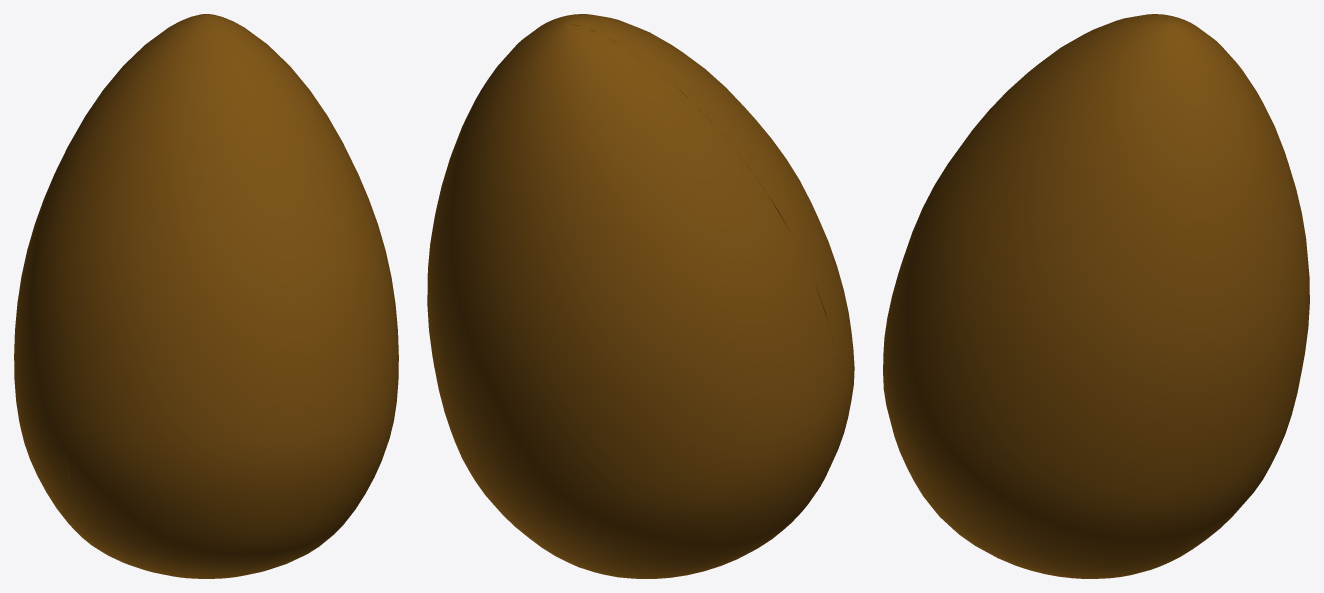
Rendered from oeuf.glb.
3 renders of one model, left to right at view 1: azimuth 30°, elevation 25°; view 2: azimuth 150°, elevation 25°; view 3: azimuth 270°, elevation 25°, orthographic. The views are drawn at different scales.
Parts seen in each view (by area): view 1: bonbon oeuf.001; view 2: bonbon oeuf.001; view 3: bonbon oeuf.001.
Part boxes in pixels (x1,y1,x2,y2): bonbon oeuf.001: (14,14,398,578); bonbon oeuf.001: (427,14,854,578); bonbon oeuf.001: (883,14,1309,578).
Bounding box in the file's own units: 0.0436 × 0.0634 × 0.0443.
